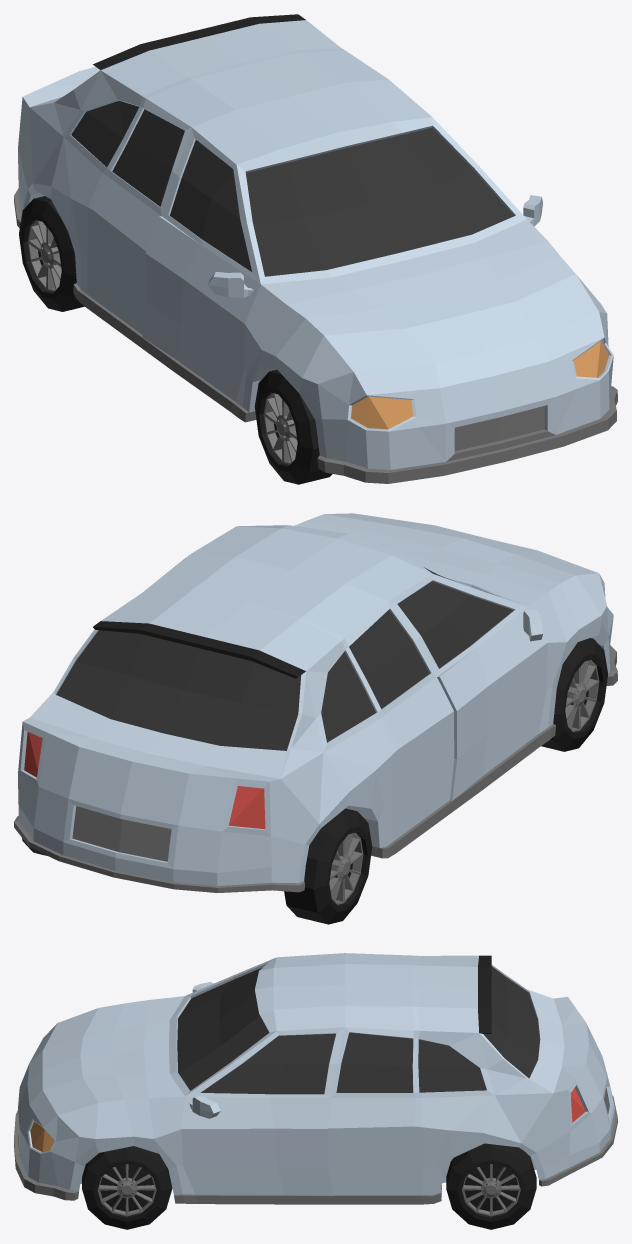
File: NormalCar2.glb
3 views of the same model, one above another, from view 1: azimuth 30°, elevation 25°; view 2: azimuth 150°, elevation 25°; view 3: azimuth 270°, elevation 25° (orthographic). The views are drawn at different scales.
Visible parts, largest first — view 1: NormalCar2, NormalCar2_FrontRightWheel, NormalCar2_BackWheels.001; view 2: NormalCar2, NormalCar2_BackWheels.001, NormalCar2_FrontRightWheel; view 3: NormalCar2, NormalCar2_BackWheels, NormalCar2_FrontLeftWheel.
Part boxes in pixels (box(x1,y1,x2,y2)): NormalCar2: box(14, 14, 617, 483); NormalCar2_FrontRightWheel: box(254, 369, 332, 484); NormalCar2_BackWheels.001: box(19, 196, 84, 311); NormalCar2: box(14, 513, 617, 892); NormalCar2_BackWheels.001: box(284, 808, 372, 924); NormalCar2_FrontRightWheel: box(541, 638, 607, 751); NormalCar2: box(14, 953, 617, 1204); NormalCar2_BackWheels: box(446, 1143, 536, 1229); NormalCar2_FrontLeftWheel: box(82, 1146, 172, 1229).
Size of the model in its own units: 1.64 by 1.15 by 3.31.
